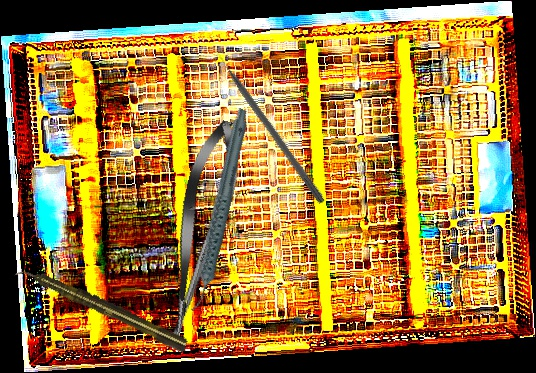Handpiece: (147, 106, 288, 314), (14, 260, 191, 355)
Micro Scissor: (148, 115, 251, 352)
Pusher: (209, 42, 328, 206)
